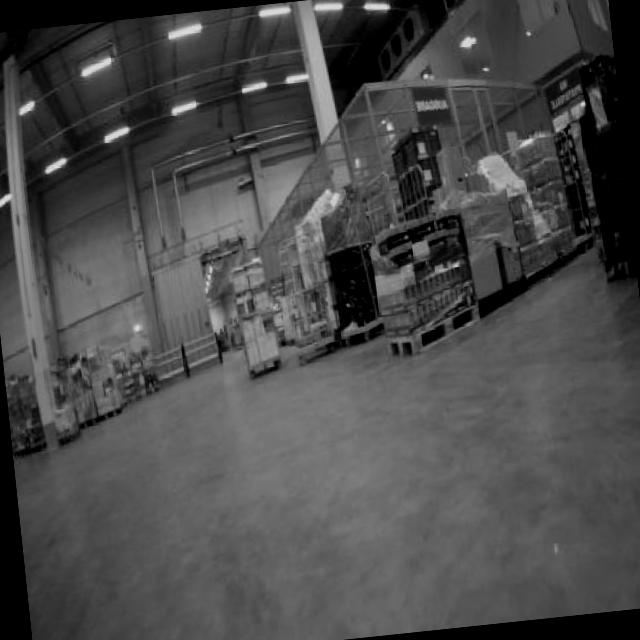pallet: (374, 290, 495, 376)
